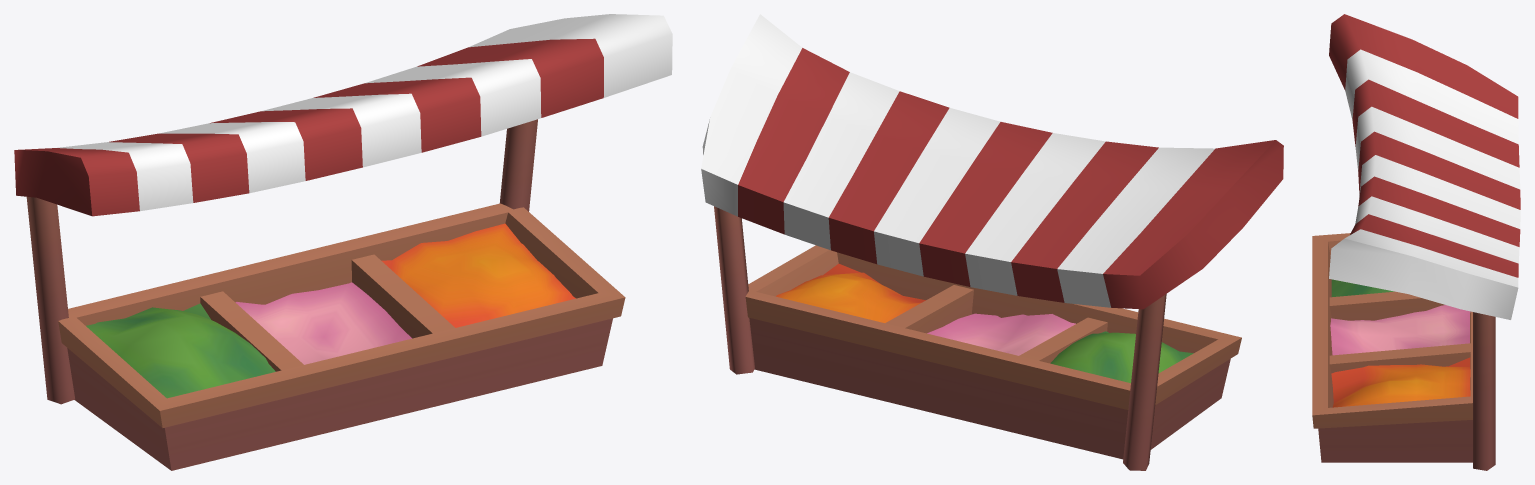
Rendered from p-puesto-rojo.glb.
3 renders of one model, left to right at view 1: azimuth 30°, elevation 25°; view 2: azimuth 150°, elevation 25°; view 3: azimuth 270°, elevation 25°, orthographic. The views are drawn at different scales.
Visible parts, largest first — view 1: Market Stall Red; view 2: Market Stall Red; view 3: Market Stall Red.
Boxes of the visible parts, <box> form: Market Stall Red: <box>14,14,672,470</box>; Market Stall Red: <box>701,14,1283,470</box>; Market Stall Red: <box>1312,14,1520,470</box>.
Size of the model in its own units: 1.99 by 1.03 by 0.7692.
Materials: 1 (1 with a texture image).
